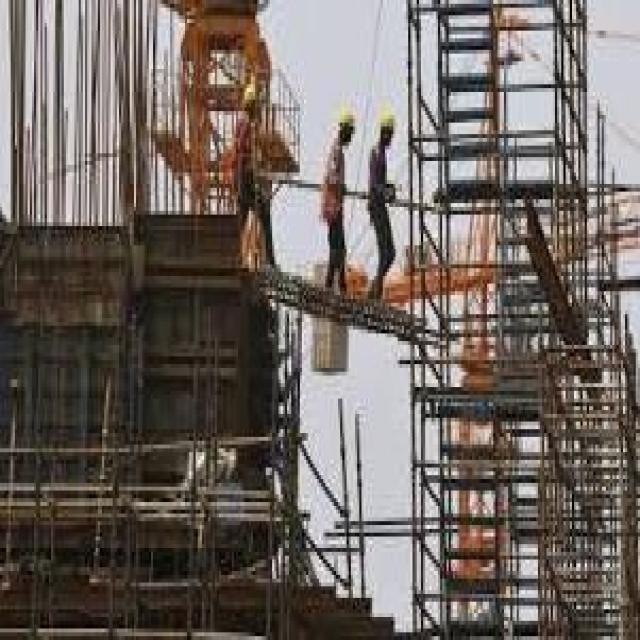Reflective-Jacket: (319, 134, 349, 219), (366, 142, 398, 214)
Safety-Helmet: (332, 96, 359, 142), (374, 96, 400, 142)
